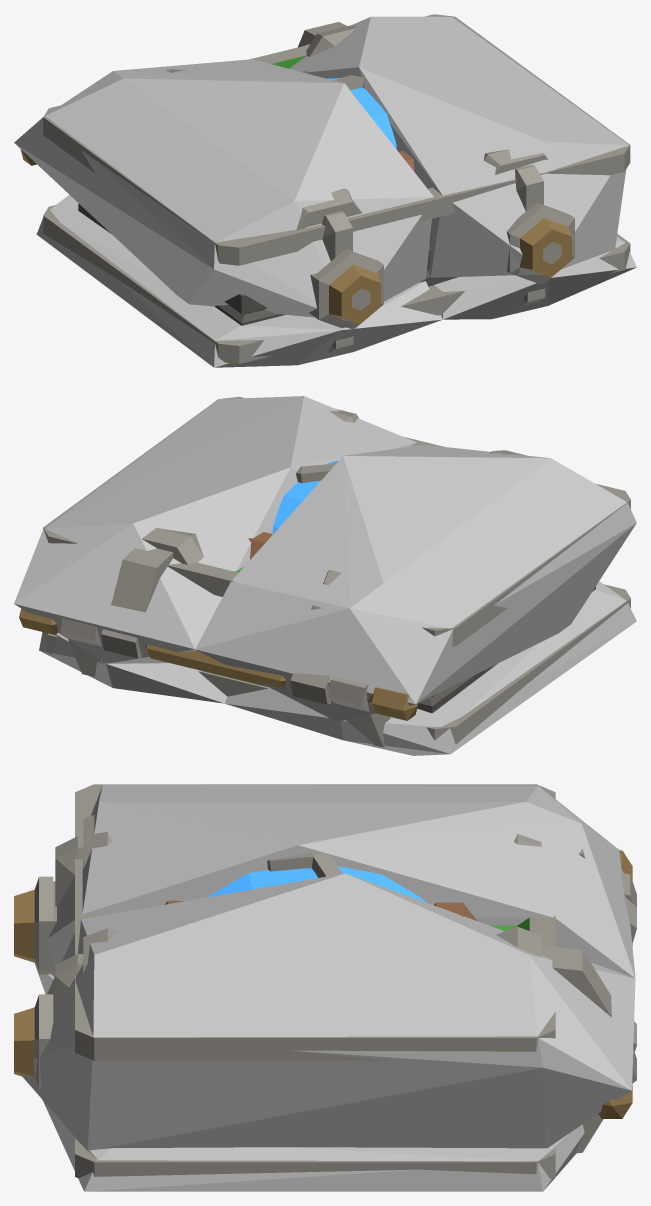
Rendered from SM_Item_Spellbook_03.fbx.
3 views of the same model, one above another, from view 1: azimuth 30°, elevation 25°; view 2: azimuth 150°, elevation 25°; view 3: azimuth 270°, elevation 25° (orthographic). The views are drawn at different scales.
Parts seen in each view (by area): view 1: SM_Item_Spellbook_03_ConvexHulls, SM_Item_Spellbook_03; view 2: SM_Item_Spellbook_03_ConvexHulls, SM_Item_Spellbook_03; view 3: SM_Item_Spellbook_03_ConvexHulls, SM_Item_Spellbook_03.
Part boxes in pixels (x1,y1,x2,y2): SM_Item_Spellbook_03_ConvexHulls: (14,16,636,367); SM_Item_Spellbook_03: (20,14,630,363); SM_Item_Spellbook_03_ConvexHulls: (14,396,636,755); SM_Item_Spellbook_03: (19,396,630,747); SM_Item_Spellbook_03_ConvexHulls: (21,784,635,1191); SM_Item_Spellbook_03: (14,784,636,1178).
Bounding box in the file's own units: 45.36 × 46.18 × 19.74.
2 materials, 1 textured.
